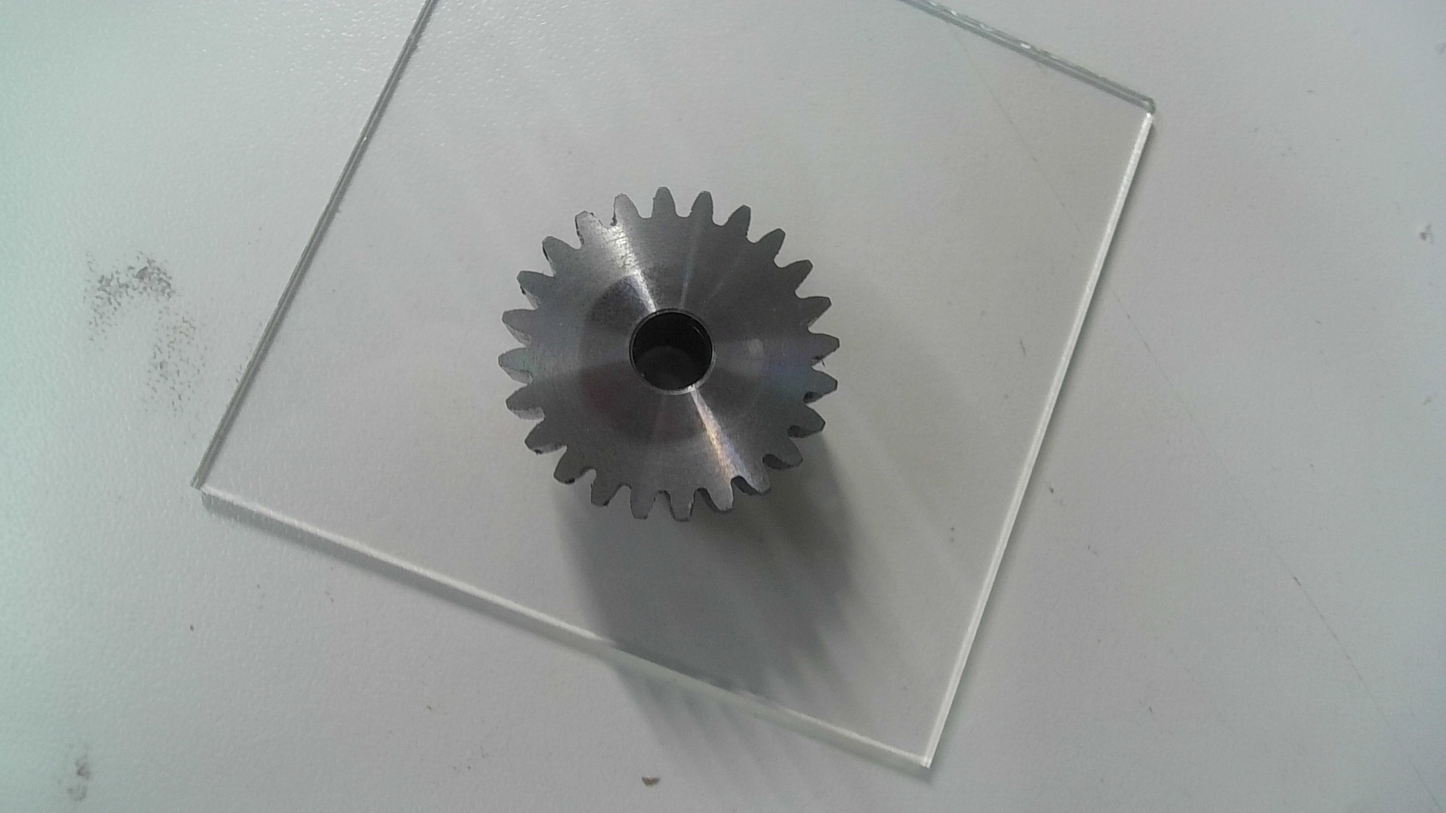gear: (490, 177, 843, 524)
